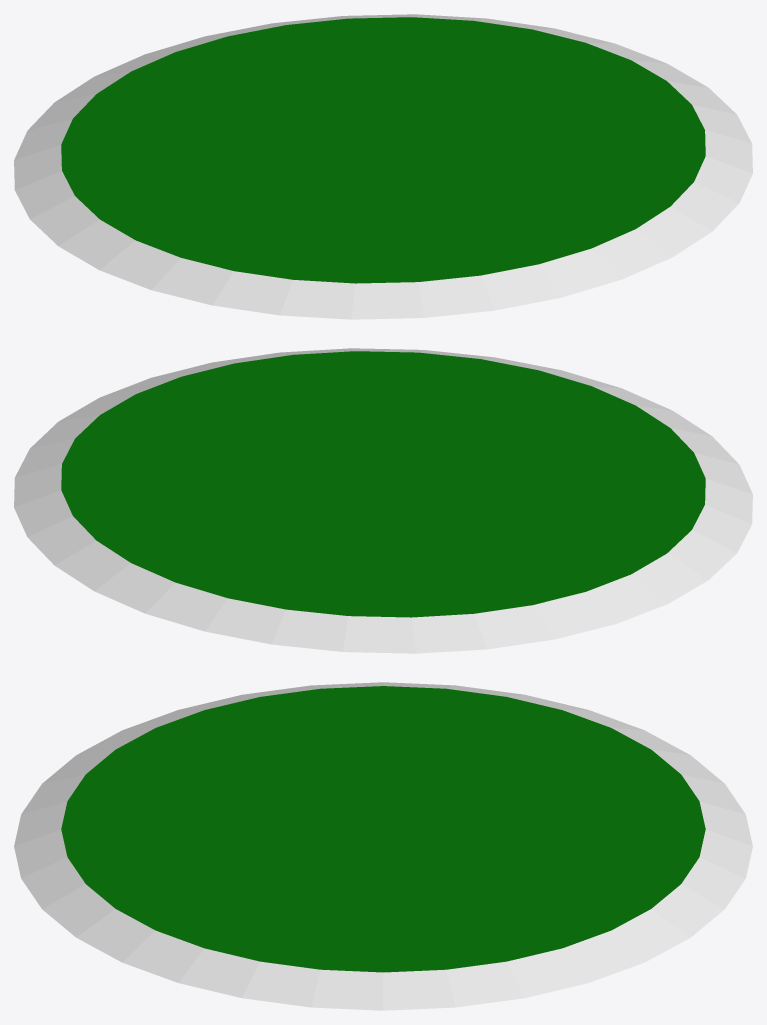
The model's file is RoundaboutCentre.fbx.
3 views of the same model, one above another, from view 1: azimuth 30°, elevation 25°; view 2: azimuth 150°, elevation 25°; view 3: azimuth 270°, elevation 25° (orthographic). The views are drawn at different scales.
Parts seen in each view (by area): view 1: RoundaboutCenter; view 2: RoundaboutCenter; view 3: RoundaboutCenter.
Boxes of the visible parts, left/top/right/bottom form: RoundaboutCenter: left=14, top=14, right=752, bottom=319; RoundaboutCenter: left=14, top=348, right=752, bottom=653; RoundaboutCenter: left=14, top=682, right=752, bottom=1010.
Size of the model in its own units: 8109 by 198 by 7709.
